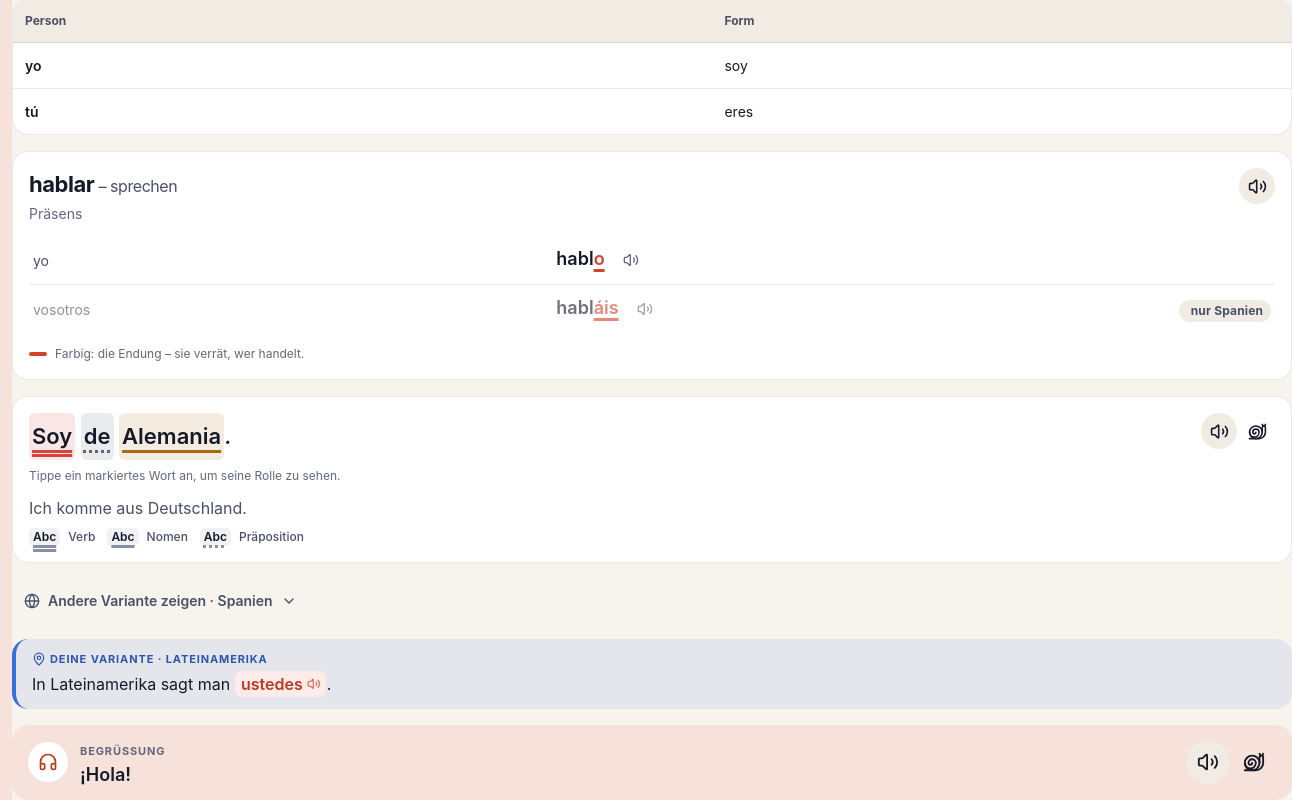
Test: ExplainBlocks › rendert alle Blocktypen ohne HTML-Injektion
(page scrolled)
expect the text "nur Spanien" is shown: met, box [1179,300,1271,322]
expect the text "Deine Variante · Lateinamerika" is shown: met, box [32,652,268,666]
Click the button "Andere Variante zeigen · Spanien": x=160, y=601 [12,579,309,623]
(page scrolled)
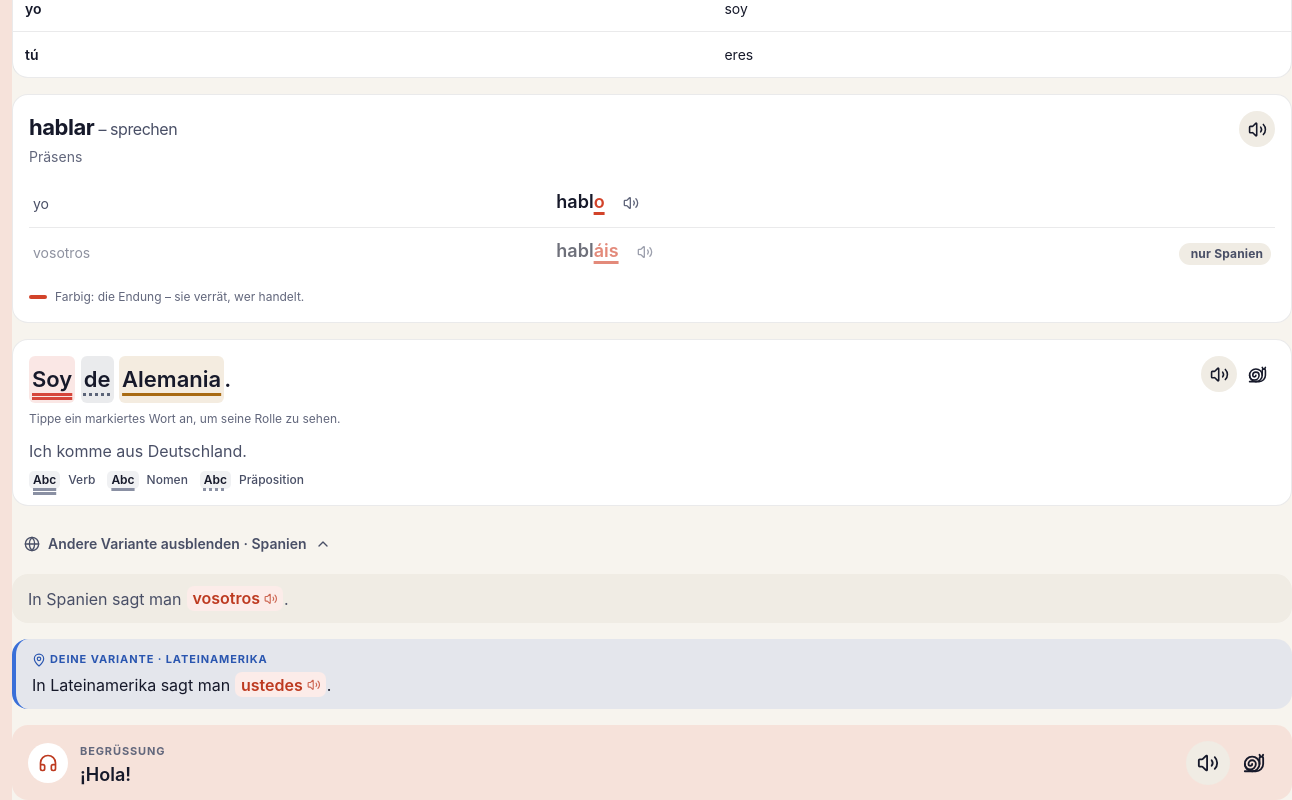
expect the button named "Vorlesen: ¡Hola!" is shown: met, box [1186,741,1230,785]
expect the button named "Andere Variante zeigen" is expanded: met, box [12,522,342,566]
